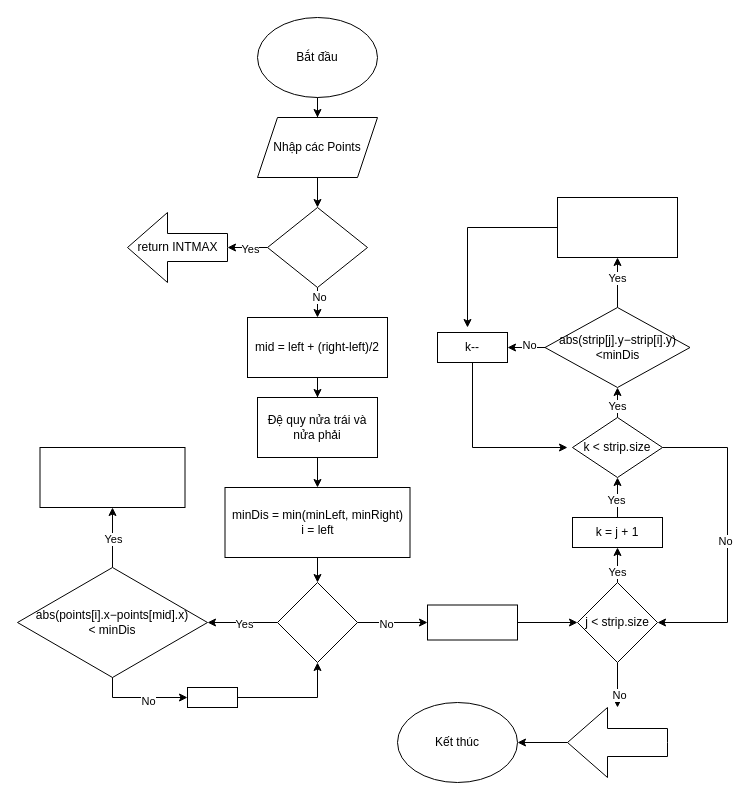
Some shapes in this 753 by 800 pixel diagram are drawn without their labels. Here are the shapes that lost their labels. From the top down, the centre of each, then its label:
At point 317,247: "right - left <= 1".
At point 617,227: "Cập nhật minDis = min(strip[j].y−strip[i].y)".
At point 112,477: "strip.push_back(points[i])".
At point 317,622: "i < right".
At point 472,622: "j = 0".
At point 212,697: "i++".
At point 617,742: "return minDis".
